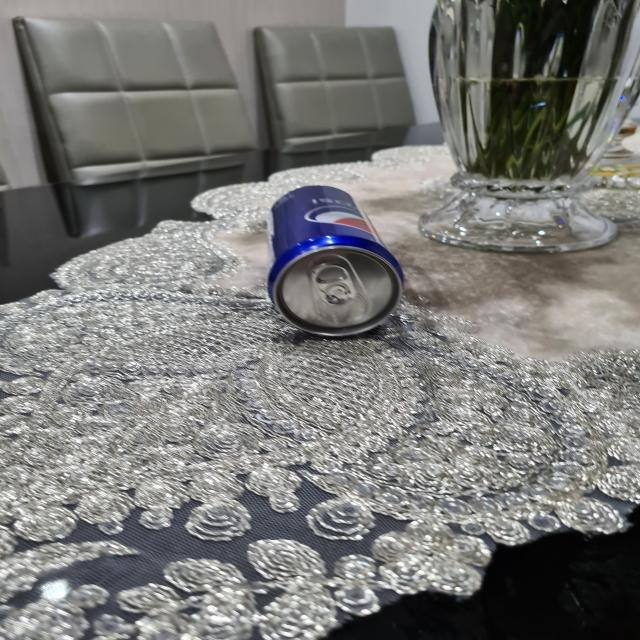non-organic waste: (259, 178, 409, 340)
